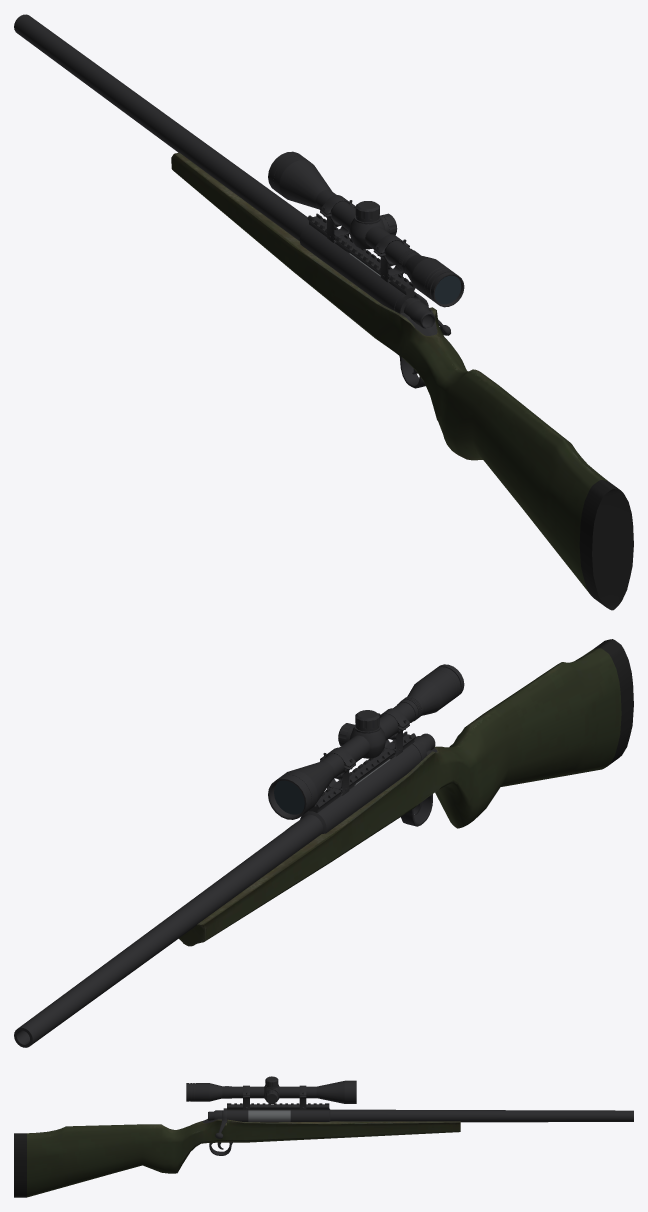
3 renders of one model, top to bottom at view 1: azimuth 30°, elevation 25°; view 2: azimuth 150°, elevation 25°; view 3: azimuth 270°, elevation 25°, orthographic. The views are drawn at different scales.
Visible parts, largest first — view 1: body, bolt_handle; view 2: body, lens_objective; view 3: body, bolt_body, bolt_handle.
Part boxes in pixels (x1=…): body: x1=14, y1=14, x2=633, y2=610; bolt_handle: x1=404, y1=293, x2=450, y2=335; body: x1=14, y1=639, x2=633, y2=1047; lens_objective: x1=274, y1=780, x2=304, y2=814; body: x1=14, y1=1076, x2=633, y2=1197; bolt_body: x1=248, y1=1110, x2=290, y2=1120; bolt_handle: x1=208, y1=1110, x2=226, y2=1138.
Size of the model in its own units: 0.0569 by 0.2308 by 1.09.
Materials: 6 (1 with a texture image).
